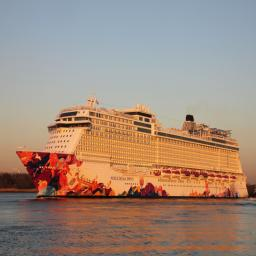cruises: (9, 89, 253, 202)
